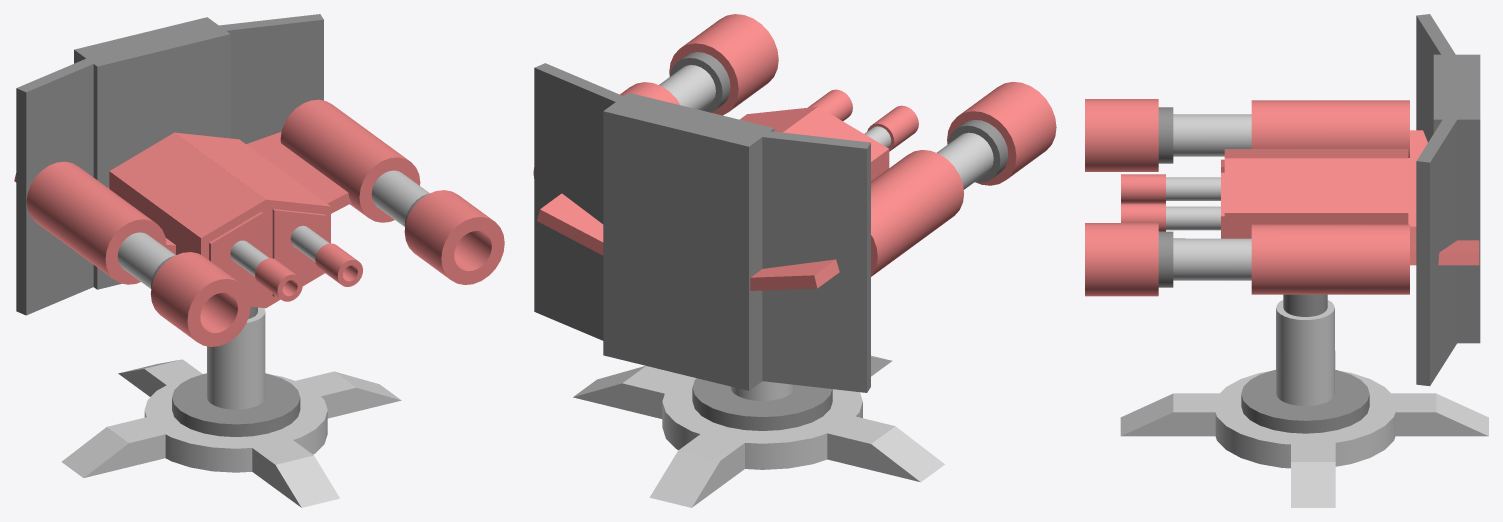
The model's file is turret_4.fbx.
3 views of the same model, side by side, from view 1: azimuth 30°, elevation 25°; view 2: azimuth 150°, elevation 25°; view 3: azimuth 270°, elevation 25° (orthographic). The views are drawn at different scales.
Visible parts, largest first — view 1: turret_4; view 2: turret_4; view 3: turret_4.
Part boxes in pixels (x1=…): turret_4: x1=14, y1=14, x2=504, y2=507; turret_4: x1=533, y1=14, x2=1056, y2=507; turret_4: x1=1085, y1=14, x2=1488, y2=507.
Bounding box in the file's own units: 100 × 102 × 110.
